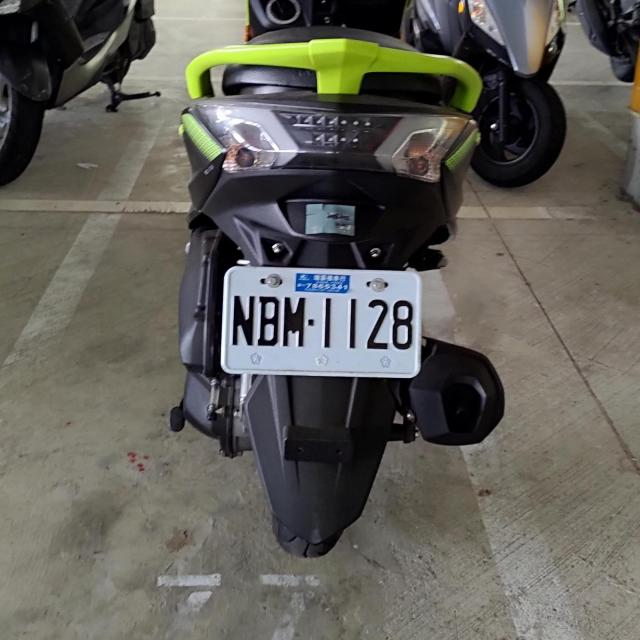W: (219, 260, 424, 379)
